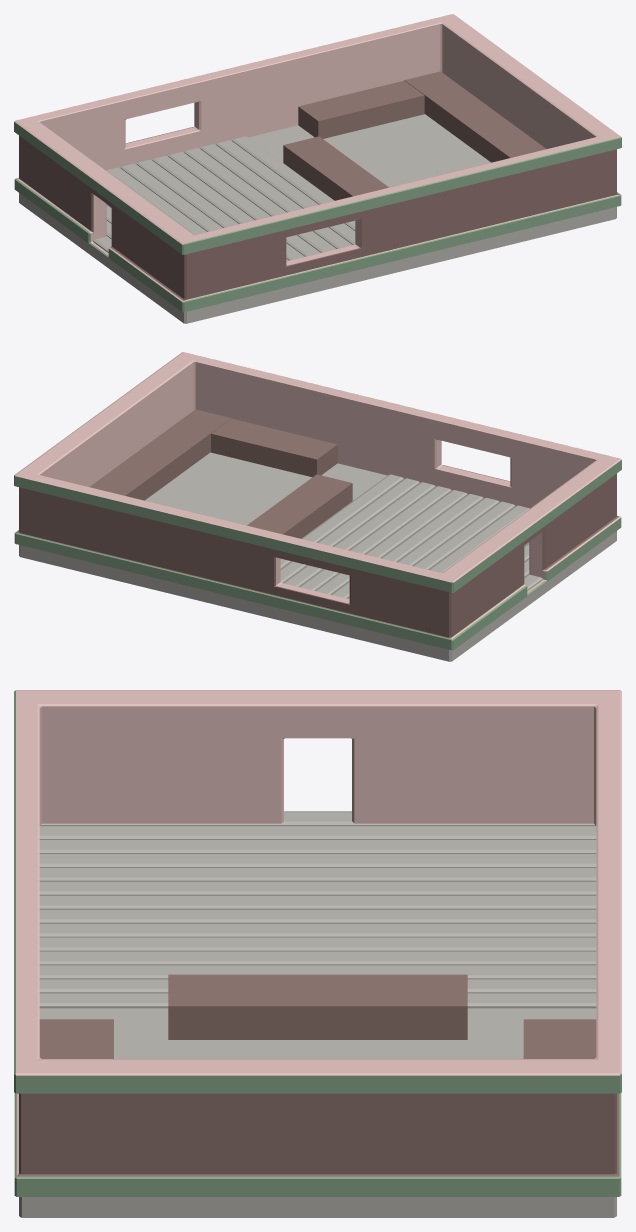
File: coffeeshop.fbx
The picture shows the model from 3 angles, top to bottom: view 1: azimuth 30°, elevation 25°; view 2: azimuth 150°, elevation 25°; view 3: azimuth 270°, elevation 25°; orthographic projection. The views are drawn at different scales.
Visible parts, largest first — view 1: walls, Plane, planks, back_counter, left_counter, front_counter; view 2: walls, Plane, planks, back_counter, right_counter, front_counter; view 3: walls, planks, Plane, front_counter, right_counter, left_counter.
Boxes of the visible parts, bbox=[...] form: walls: bbox=[14, 14, 621, 312]; Plane: bbox=[19, 114, 616, 323]; planks: bbox=[93, 136, 355, 261]; back_counter: bbox=[404, 71, 546, 162]; left_counter: bbox=[298, 80, 424, 138]; front_counter: bbox=[283, 136, 388, 200]; walls: bbox=[14, 352, 621, 650]; Plane: bbox=[19, 452, 616, 661]; planks: bbox=[280, 474, 542, 599]; back_counter: bbox=[89, 409, 231, 500]; right_counter: bbox=[210, 418, 337, 477]; front_counter: bbox=[247, 474, 352, 538]; walls: bbox=[14, 690, 621, 1196]; planks: bbox=[39, 811, 596, 1008]; Plane: bbox=[19, 1008, 616, 1217]; front_counter: bbox=[168, 974, 467, 1039]; right_counter: bbox=[39, 1019, 113, 1058]; left_counter: bbox=[523, 1019, 596, 1058].
Size of what is drawn, in the model's own units: 610 by 109 by 407.
